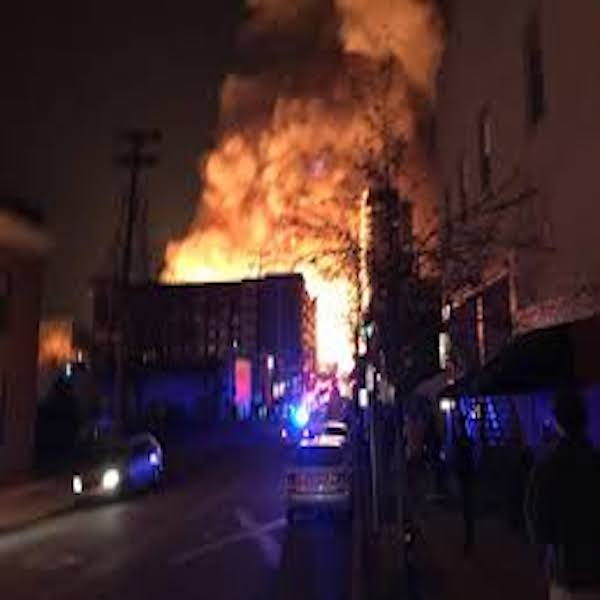fire: (160, 94, 363, 283), (342, 3, 449, 186), (311, 284, 363, 374)
